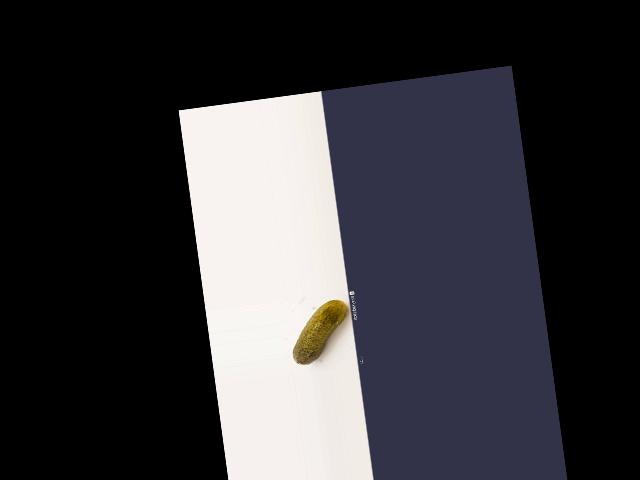cucumber: (287, 298, 354, 366)
